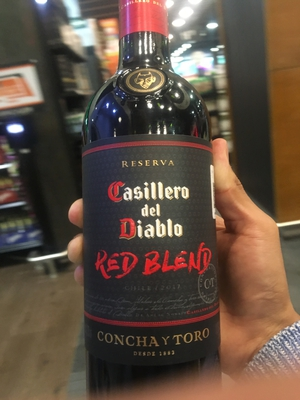casillero del diablo red blend: (81, 22, 230, 398)
